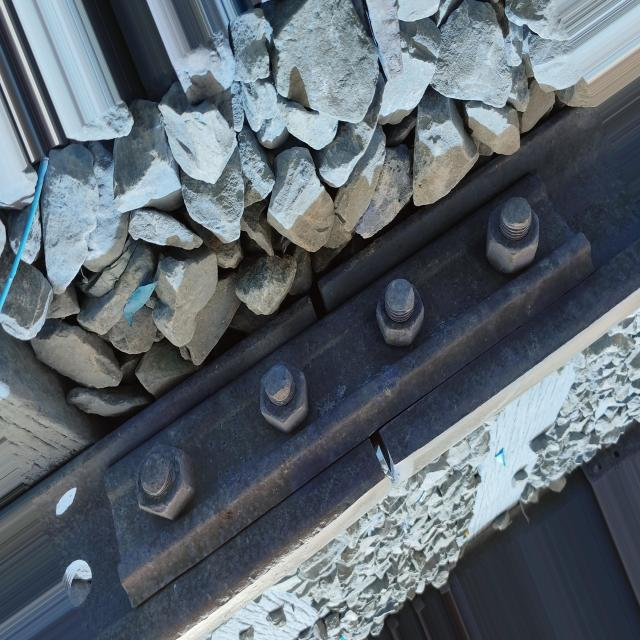Good Joint: (102, 177, 596, 607)
